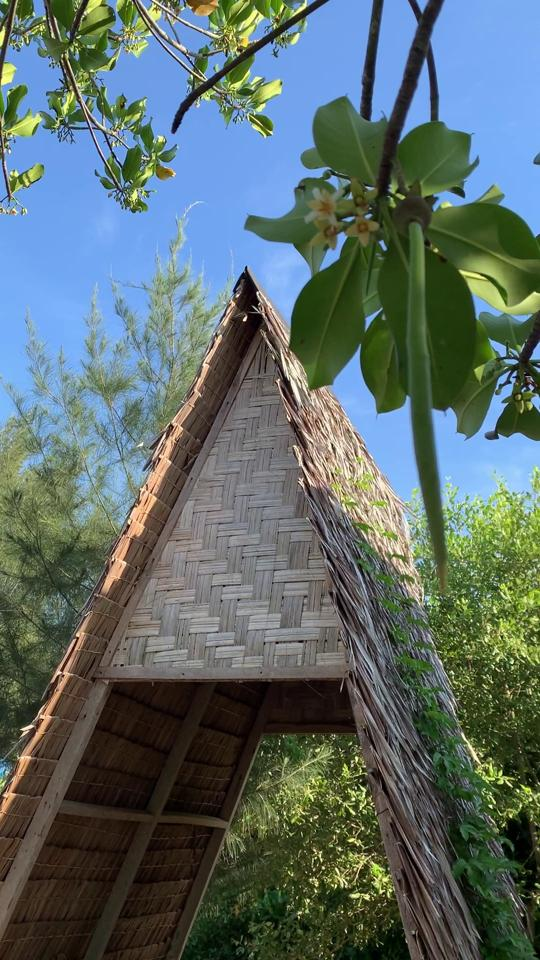mentah: (380, 178, 472, 601)
